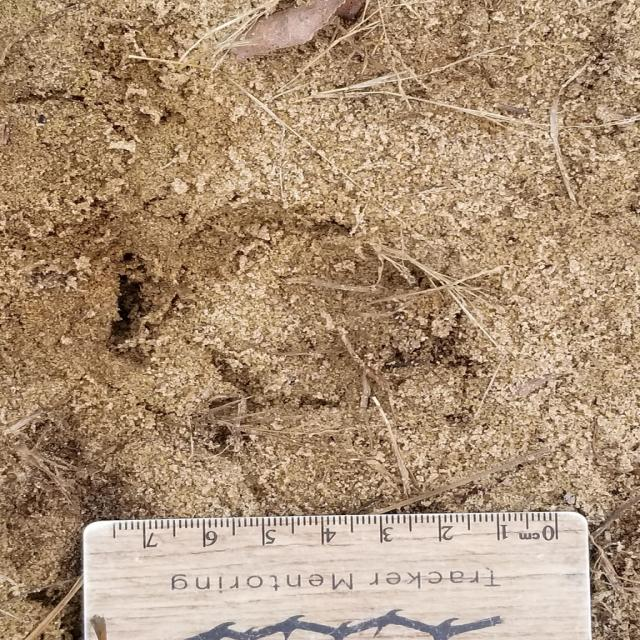canid: (167, 190, 460, 434)
